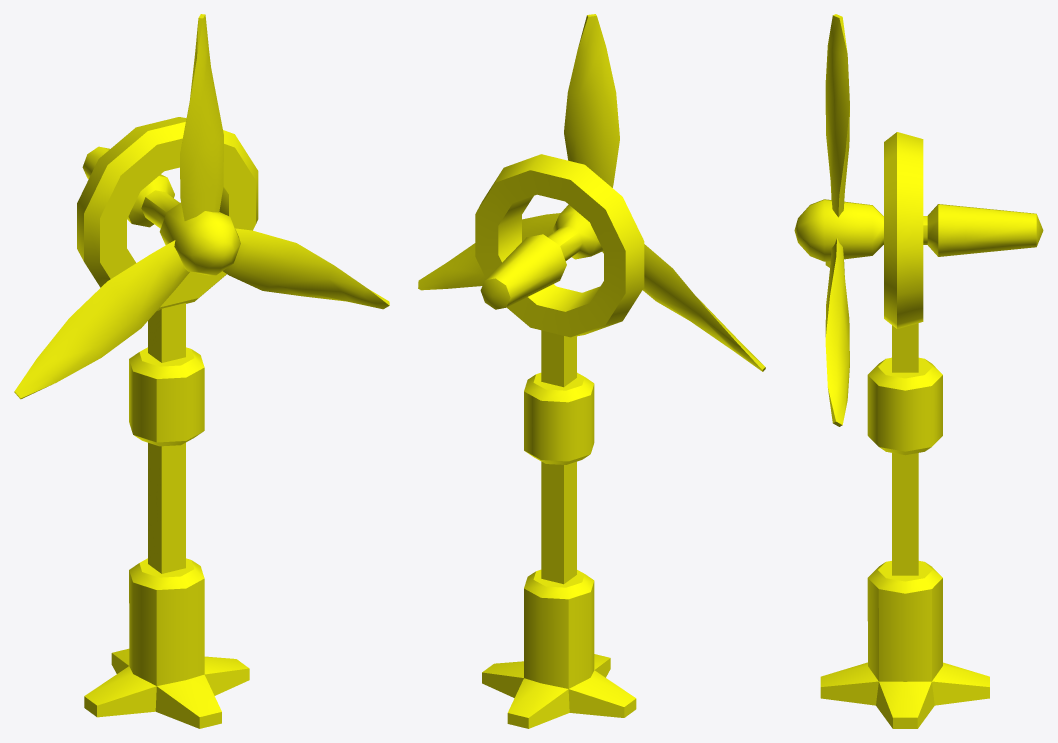
File: kaykit-windturbine-tall.glb
3 views of the same model, side by side, from view 1: azimuth 30°, elevation 25°; view 2: azimuth 150°, elevation 25°; view 3: azimuth 270°, elevation 25° (orthographic). The views are drawn at different scales.
Parts seen in each view (by area): view 1: windturbine_tall; view 2: windturbine_tall; view 3: windturbine_tall.
Boxes of the visible parts, x1,y1,x2,y2 form: windturbine_tall: [14, 14, 389, 728]; windturbine_tall: [418, 14, 765, 728]; windturbine_tall: [794, 14, 1043, 728].
Size of the model in its own units: 1.67 by 3 by 0.9999.
